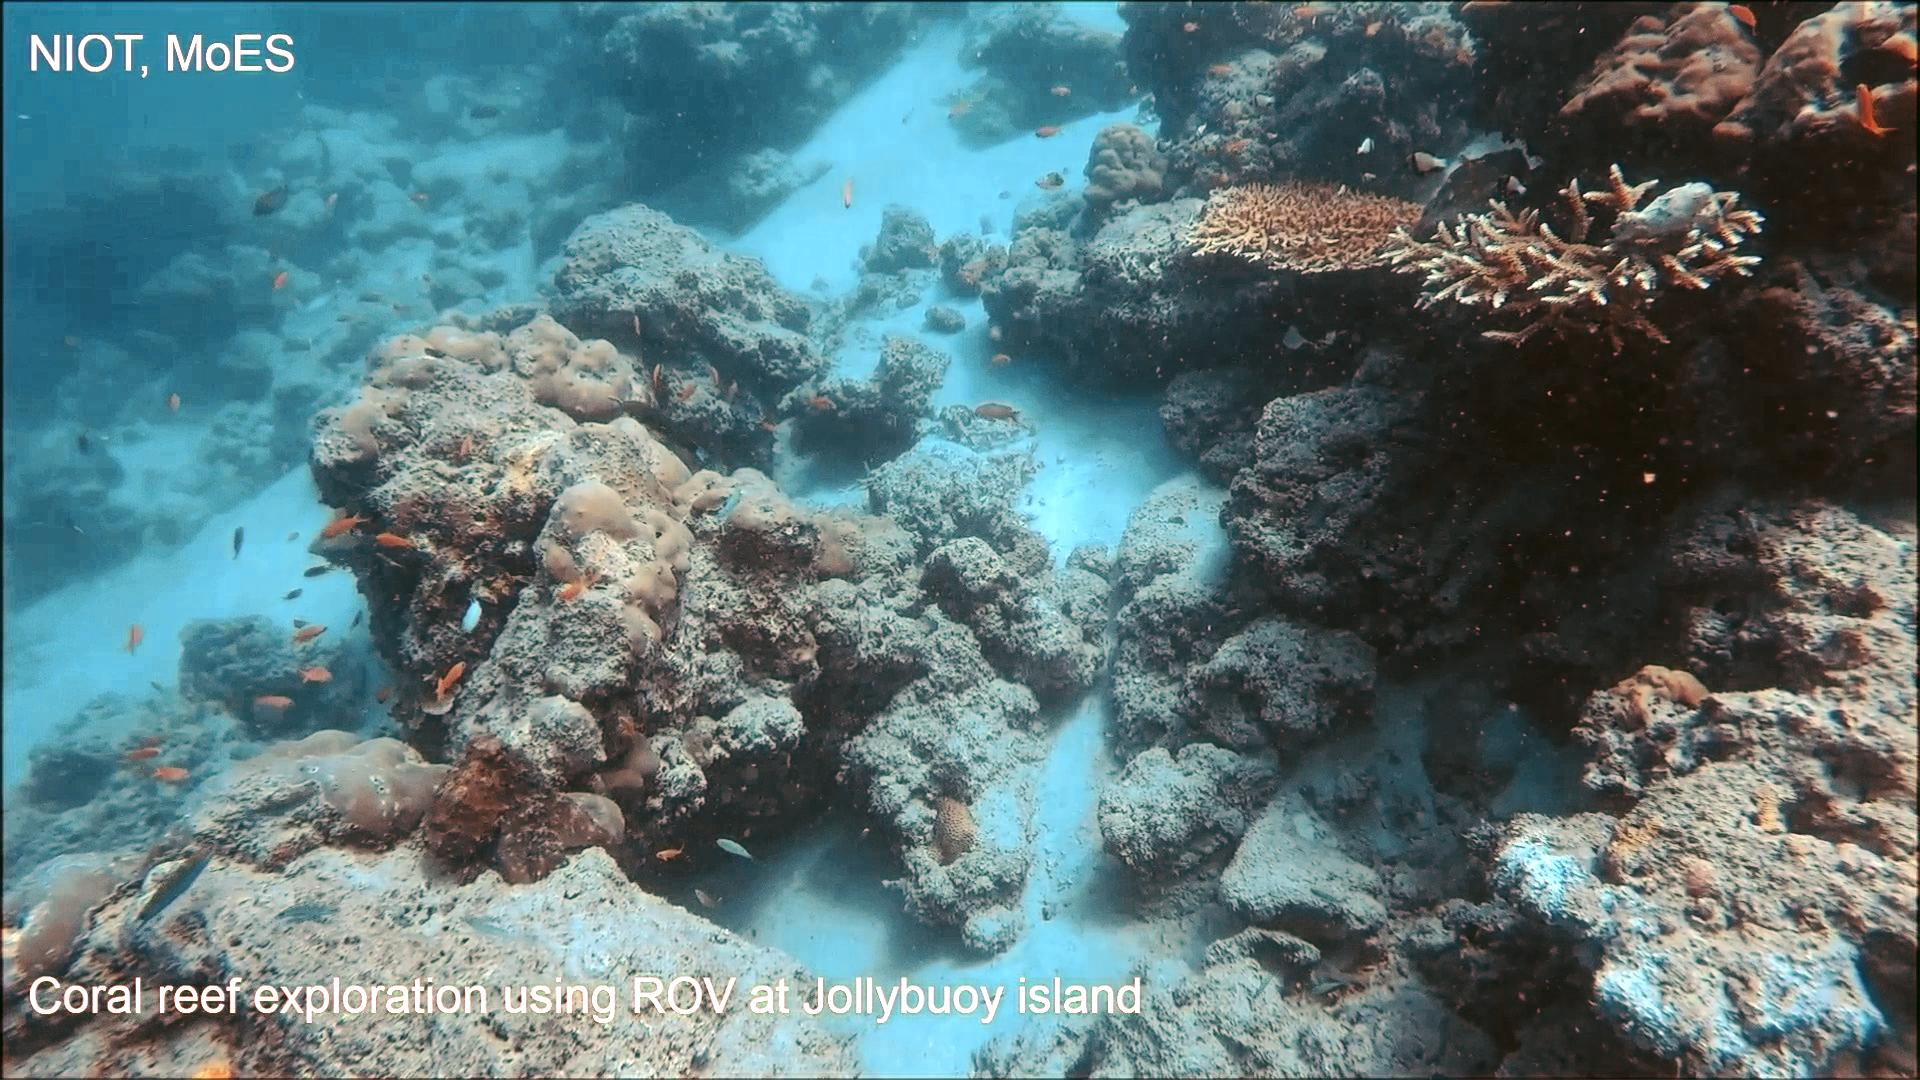Porites-Porites pukoensis: (484, 299, 741, 657)
